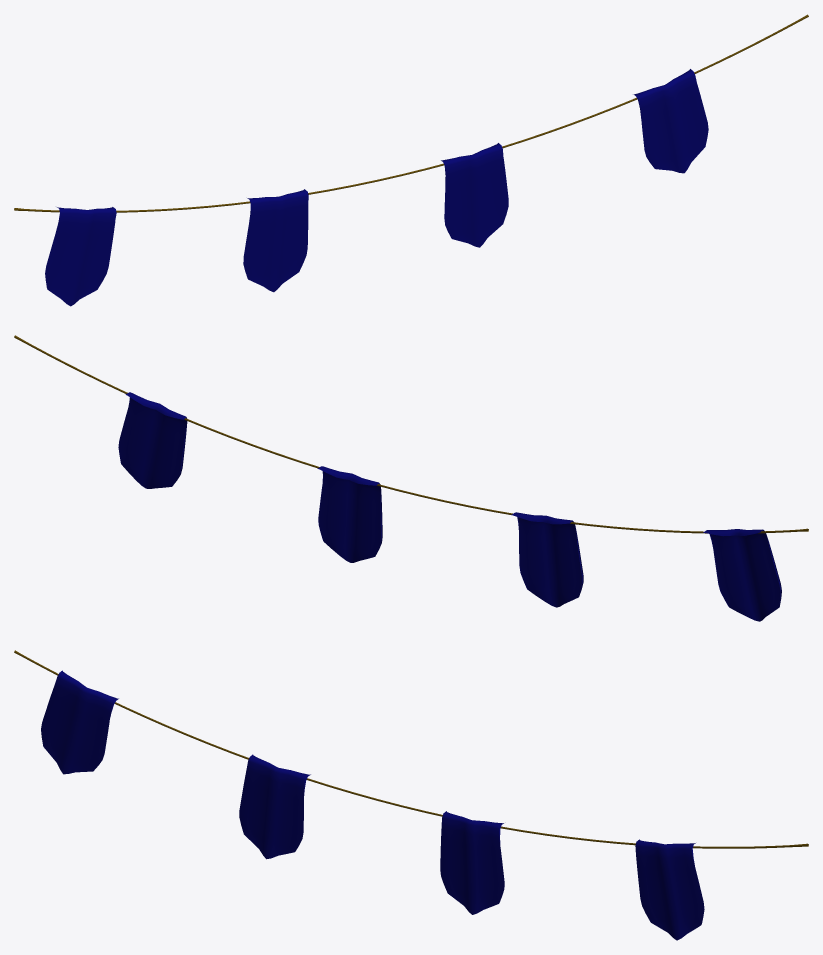
File: SM_BandeiraAzul.fbx
3 views of the same model, one above another, from view 1: azimuth 30°, elevation 25°; view 2: azimuth 150°, elevation 25°; view 3: azimuth 330°, elevation 25° (orthographic).
Parts seen in each view (by area): view 1: SM_BandeiraAzul; view 2: SM_BandeiraAzul; view 3: SM_BandeiraAzul.
Boxes of the visible parts, x1=… form: SM_BandeiraAzul: x1=14, y1=14, x2=808, y2=306; SM_BandeiraAzul: x1=14, y1=335, x2=808, y2=621; SM_BandeiraAzul: x1=14, y1=650, x2=808, y2=940.
Bounding box in the file's own units: 61.32 × 11.04 × 0.9987.
